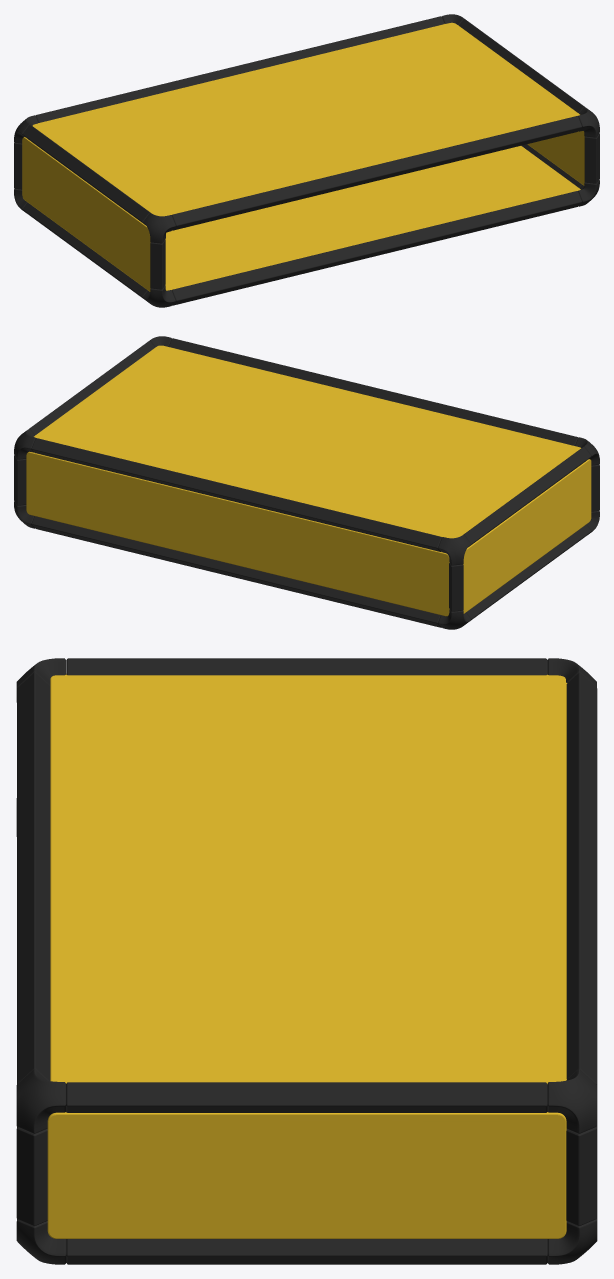
The picture shows the model from 3 angles, top to bottom: view 1: azimuth 30°, elevation 25°; view 2: azimuth 150°, elevation 25°; view 3: azimuth 270°, elevation 25°; orthographic projection. The views are drawn at different scales.
Visible parts, largest first — view 1: 729x374x79; view 2: 729x374x79; view 3: 729x374x79.
Part boxes in pixels (bbox=[...]): 729x374x79: bbox=[14, 14, 599, 307]; 729x374x79: bbox=[14, 336, 599, 629]; 729x374x79: bbox=[16, 658, 597, 1264].
Size of the model in its own units: 0.8067 by 0.1566 by 0.4513.
